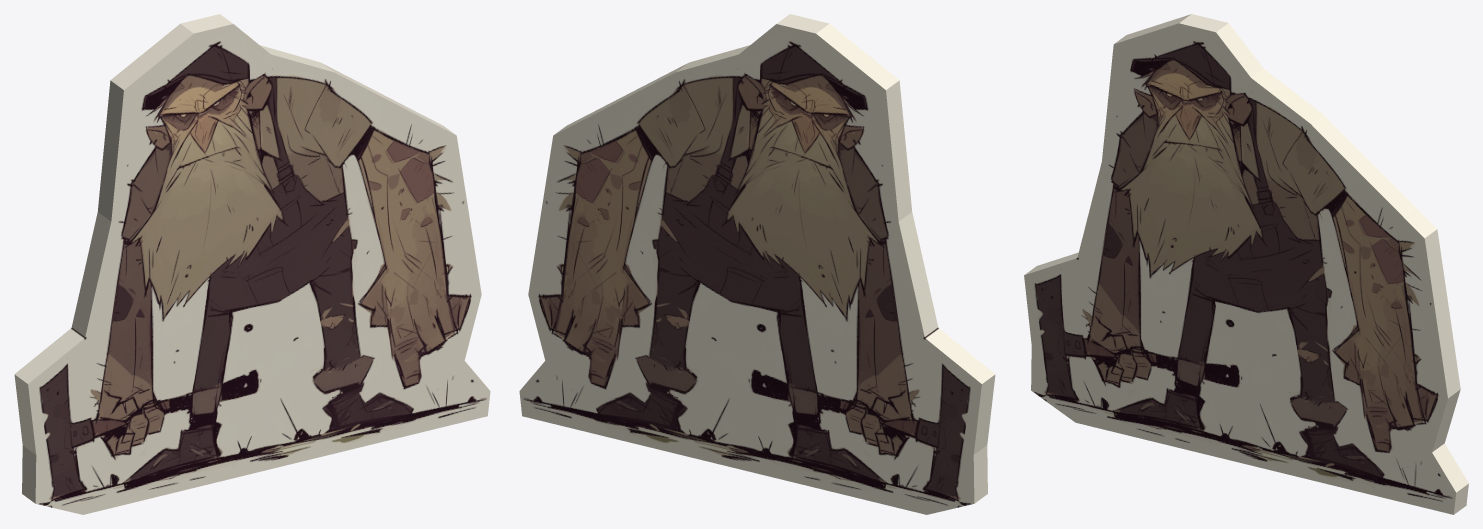
File: enemy1.fbx
3 renders of one model, left to right at view 1: azimuth 30°, elevation 25°; view 2: azimuth 150°, elevation 25°; view 3: azimuth 330°, elevation 25°, orthographic. The views are drawn at different scales.
Parts seen in each view (by area): view 1: Plane; view 2: Plane; view 3: Plane.
Boxes of the visible parts, bbox=[...] form: Plane: bbox=[14, 14, 490, 514]; Plane: bbox=[519, 14, 995, 514]; Plane: bbox=[1024, 14, 1468, 514].
Size of the model in its own units: 196 by 184 by 10.
